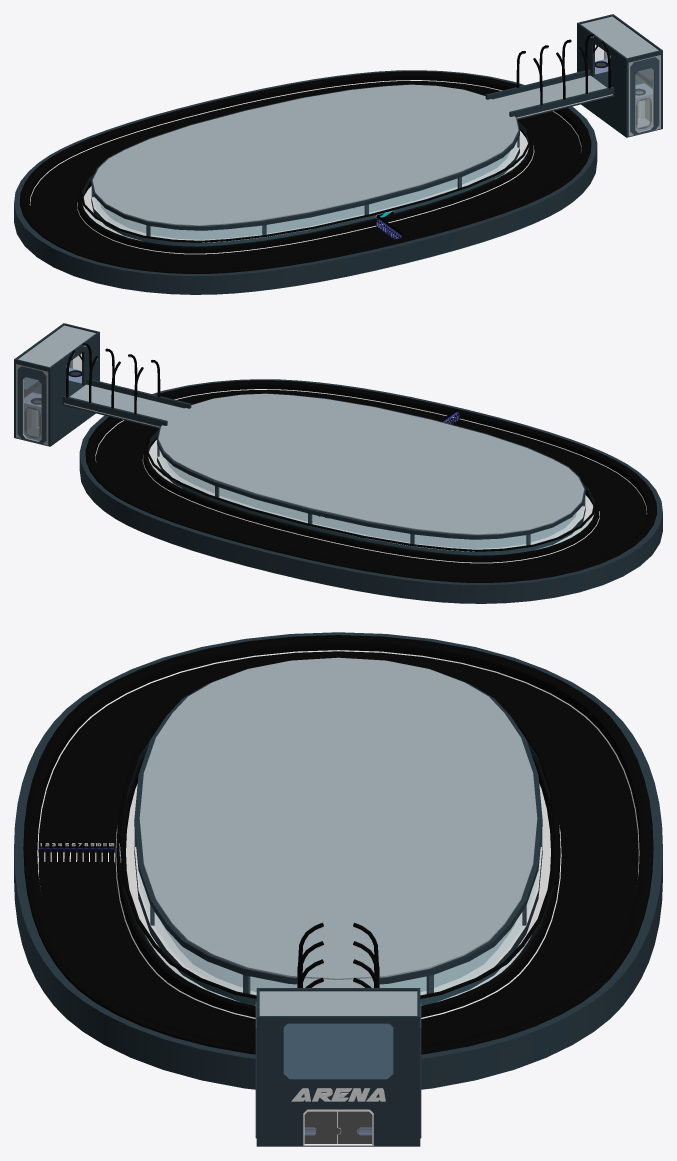
The model's file is Arena Striped.fbx.
3 renders of one model, top to bottom at view 1: azimuth 30°, elevation 25°; view 2: azimuth 150°, elevation 25°; view 3: azimuth 270°, elevation 25°, orthographic. The views are drawn at different scales.
Parts seen in each view (by area): view 1: Circle.015, Circle.014, Circle.018; view 2: Circle.015, Circle.014, Circle.017; view 3: Circle.015, Circle.014, Circle.021, Circle.009, Circle.010, Circle.002.
Part boxes in pixels (bbox=[...]): Circle.015: bbox=[14, 14, 662, 294]; Circle.014: bbox=[30, 81, 580, 269]; Circle.018: bbox=[635, 83, 652, 131]; Circle.015: bbox=[14, 323, 662, 603]; Circle.014: bbox=[96, 390, 646, 578]; Circle.017: bbox=[24, 392, 41, 440]; Circle.015: bbox=[14, 632, 662, 1146]; Circle.014: bbox=[38, 651, 638, 1045]; Circle.021: bbox=[283, 1023, 393, 1079]; Circle.009: bbox=[304, 1111, 340, 1143]; Circle.010: bbox=[337, 1111, 371, 1143]; Circle.002: bbox=[38, 842, 114, 862].
Size of the model in its own units: 128 by 16.9 by 72.77.
